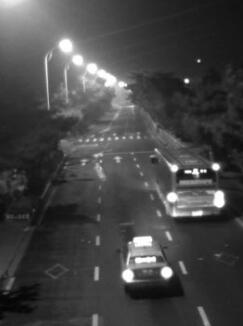bus: (150, 145, 224, 220)
car: (119, 234, 174, 290)
